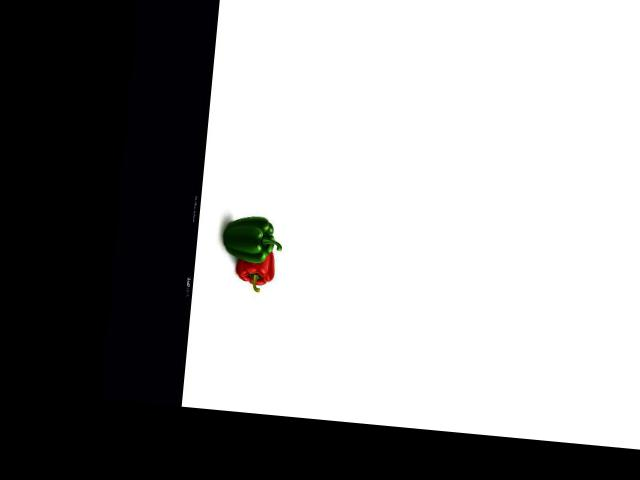bell_pepper: (235, 247, 281, 293)
